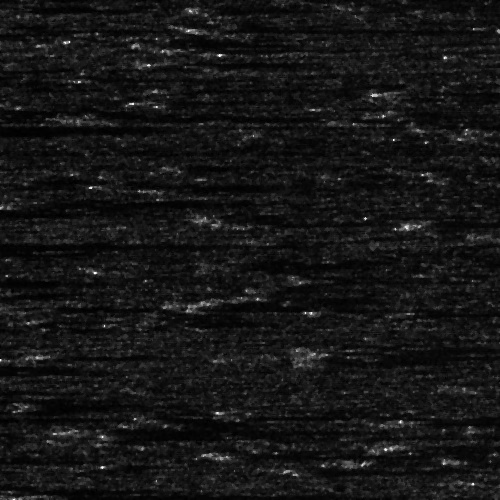object: (12, 421, 127, 440), (147, 23, 262, 32), (12, 110, 95, 119), (212, 449, 285, 458), (1, 493, 84, 500), (190, 293, 231, 302), (0, 198, 47, 205), (135, 98, 188, 103), (54, 75, 95, 80), (390, 310, 431, 315), (405, 216, 416, 223)
shadow: (69, 421, 275, 440), (53, 110, 321, 119), (0, 240, 225, 249), (42, 493, 323, 500), (205, 23, 416, 32), (20, 198, 288, 205), (248, 449, 396, 458), (0, 122, 101, 135), (211, 293, 350, 302), (75, 75, 213, 80), (162, 98, 300, 103), (0, 450, 51, 463), (411, 216, 500, 223), (0, 393, 64, 402), (411, 310, 500, 315), (0, 277, 42, 284), (16, 353, 82, 354)
